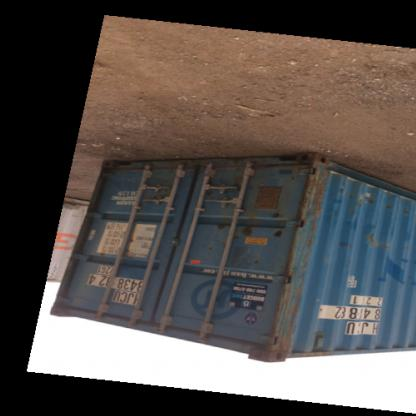Damage: (299, 152, 329, 226), (282, 222, 314, 286), (344, 188, 414, 216), (274, 287, 304, 350), (247, 327, 292, 361), (203, 160, 245, 190), (146, 163, 182, 195), (356, 220, 391, 250), (337, 231, 350, 252), (242, 223, 256, 242), (270, 225, 288, 239)
